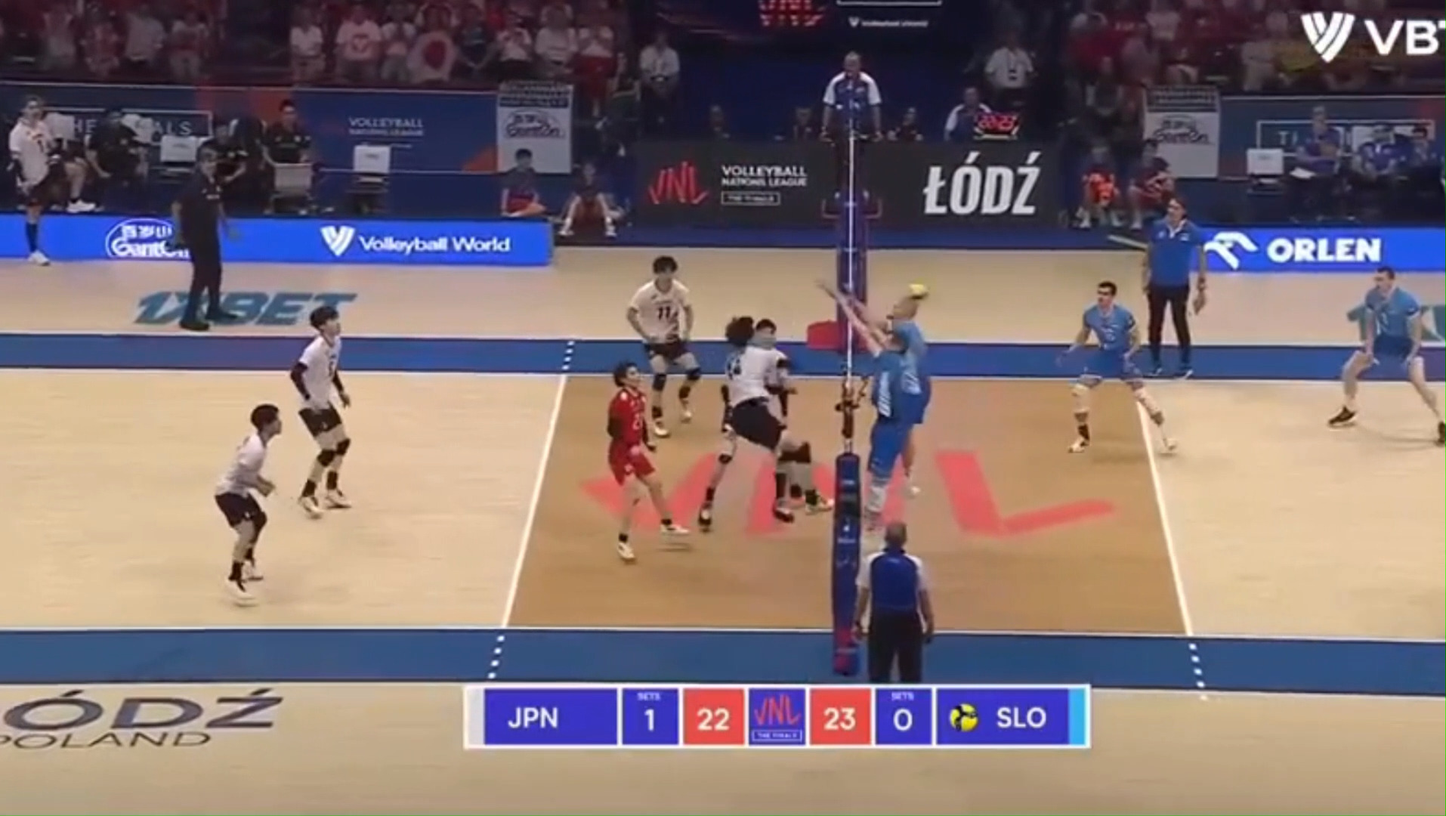ball: (910, 283, 928, 298)
player: (1327, 266, 1445, 445), (1064, 280, 1176, 453), (851, 313, 928, 530), (858, 297, 928, 391)
player 1: (725, 316, 827, 522), (607, 363, 685, 561), (626, 256, 702, 437), (214, 403, 281, 603), (290, 306, 351, 517), (697, 385, 737, 531), (752, 318, 777, 347), (768, 378, 783, 394)
referee: (853, 521, 934, 683), (172, 148, 236, 331), (1142, 196, 1207, 376), (820, 52, 882, 217)
